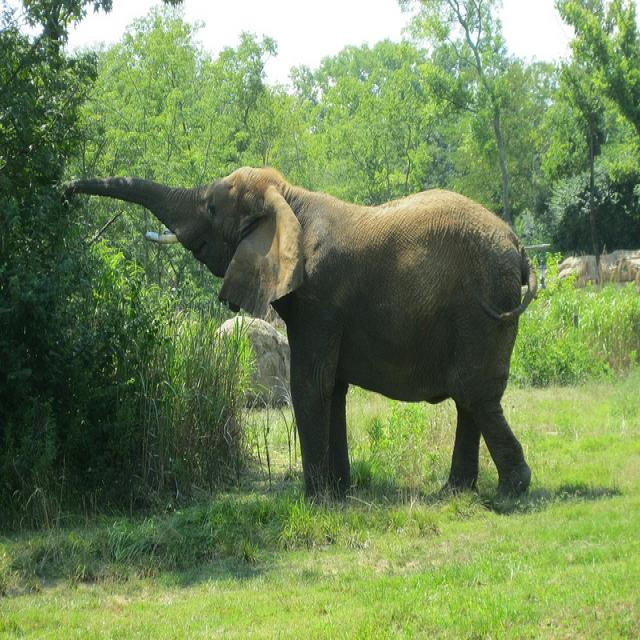Elephant: (60, 164, 538, 507)
